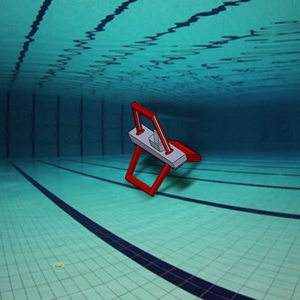submarine: (112, 89, 207, 212)
